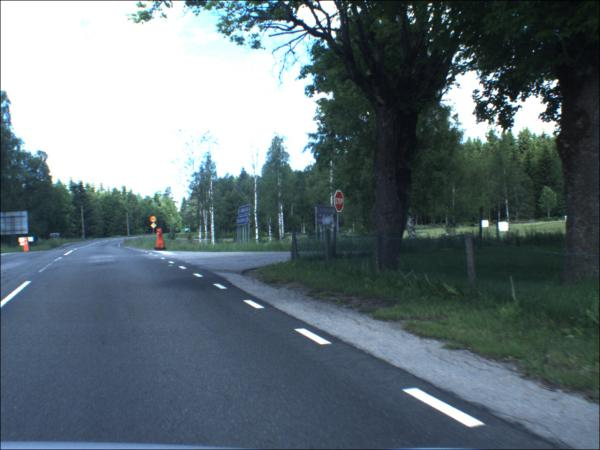80_SIGN: (151, 217, 159, 224)
PRIORITY_ROAD: (152, 224, 159, 230)
STOP: (335, 191, 345, 214)
